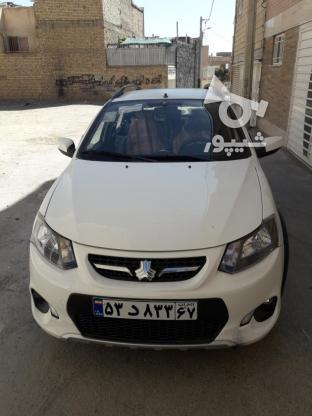car: (97, 299, 196, 321)
